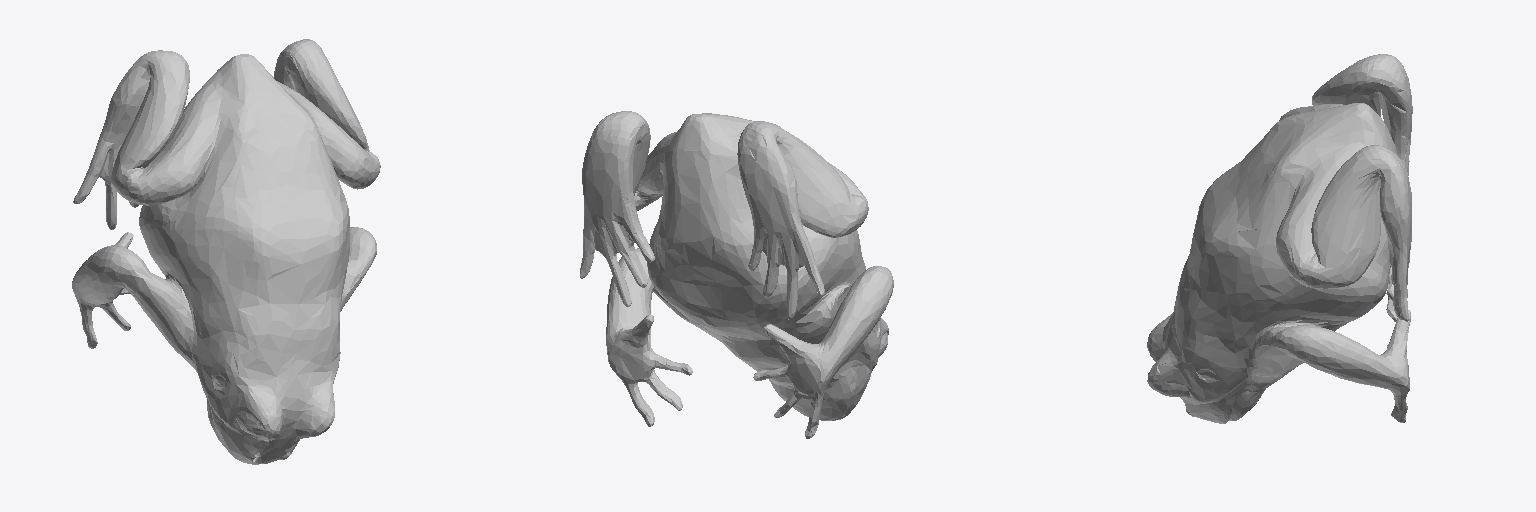
Rendered from frog.obj.
3 views of the same model, side by side, from view 1: azimuth 30°, elevation 25°; view 2: azimuth 150°, elevation 25°; view 3: azimuth 270°, elevation 25° (orthographic).
Parts seen in each view (by area): view 1: obj_0; view 2: obj_0; view 3: obj_0.
Part boxes in pixels (left/top/right/bottom): obj_0: left=72, top=39, right=380, bottom=464; obj_0: left=580, top=111, right=893, bottom=438; obj_0: left=1147, top=54, right=1412, bottom=423.
Size of the model in its own units: 60.27 by 73.98 by 50.